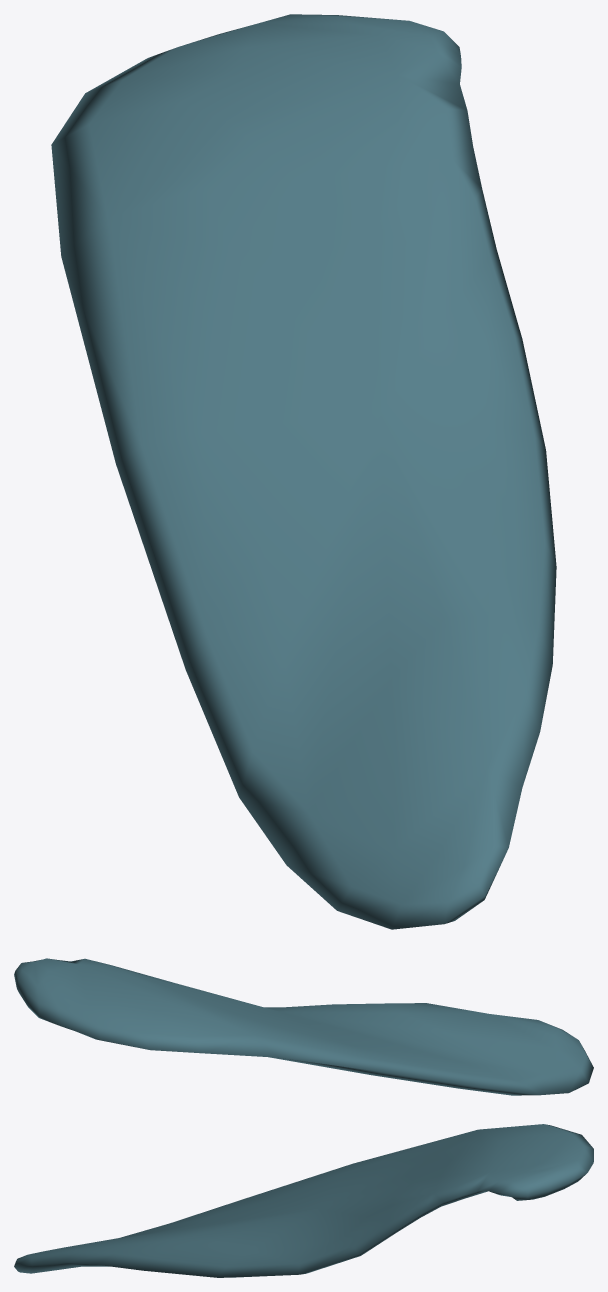
The model's file is Proximal_phalanx_1st_toe_right_001.glb.
3 views of the same model, one above another, from view 1: azimuth 30°, elevation 25°; view 2: azimuth 150°, elevation 25°; view 3: azimuth 270°, elevation 25° (orthographic). The views are drawn at different scales.
Visible parts, largest first — view 1: Proximal_phalanx_of_1st_finger_of_foot.r.001_Generated_Mesh_; view 2: Proximal_phalanx_of_1st_finger_of_foot.r.001_Generated_Mesh_; view 3: Proximal_phalanx_of_1st_finger_of_foot.r.001_Generated_Mesh_.
Boxes of the visible parts, box(x1,y1,x2,y2) form: Proximal_phalanx_of_1st_finger_of_foot.r.001_Generated_Mesh_: box(51, 14, 556, 929); Proximal_phalanx_of_1st_finger_of_foot.r.001_Generated_Mesh_: box(14, 958, 593, 1095); Proximal_phalanx_of_1st_finger_of_foot.r.001_Generated_Mesh_: box(14, 1124, 593, 1277).
Bounding box in the file's own units: 0.0076 × 0.00528 × 0.0132.
